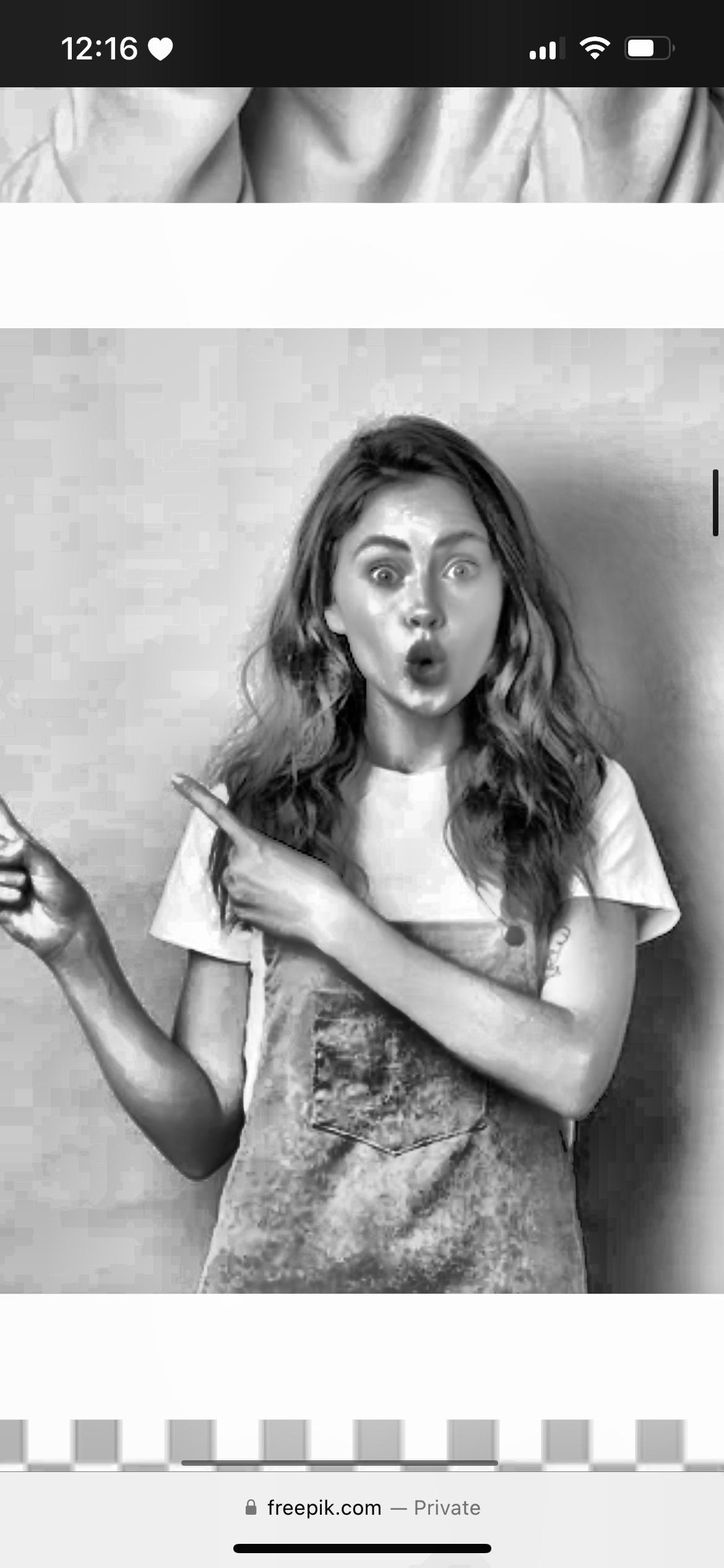surprised: (285, 436, 609, 828)
